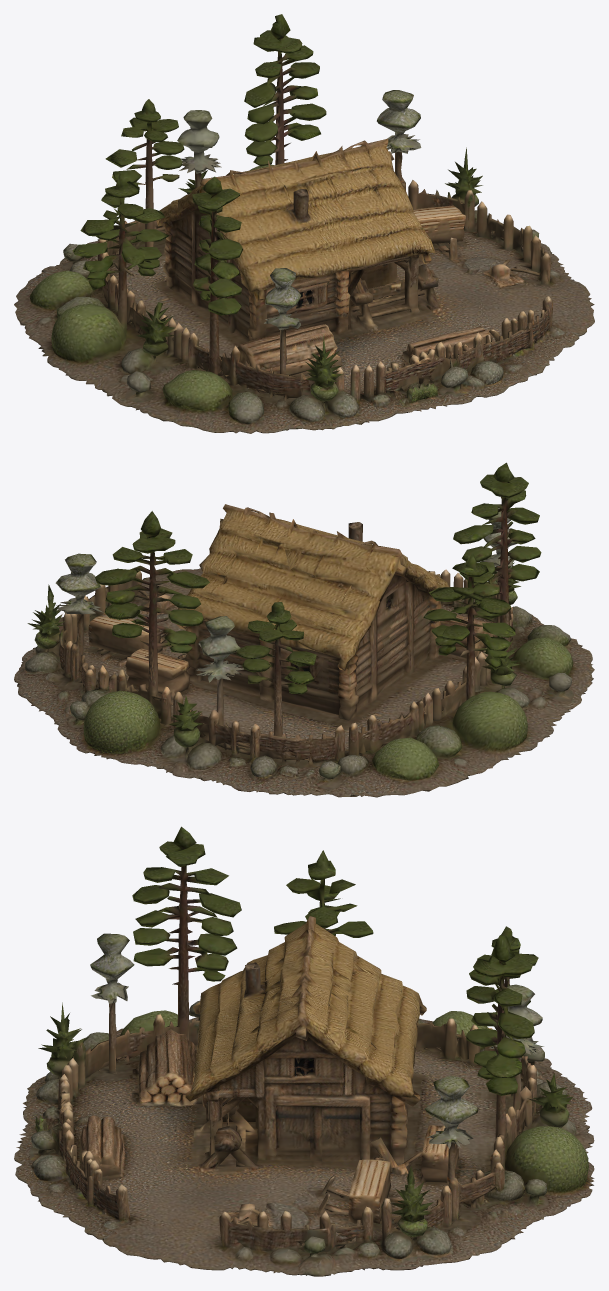
The model's file is sawmill.glb.
3 views of the same model, one above another, from view 1: azimuth 30°, elevation 25°; view 2: azimuth 150°, elevation 25°; view 3: azimuth 270°, elevation 25° (orthographic). The views are drawn at different scales.
Visible parts, largest first — view 1: tripo_node_e5df8669-d6f1-4f5e-9494-879ddd1b7f77; view 2: tripo_node_e5df8669-d6f1-4f5e-9494-879ddd1b7f77; view 3: tripo_node_e5df8669-d6f1-4f5e-9494-879ddd1b7f77.
Part boxes in pixels (<box>): tripo_node_e5df8669-d6f1-4f5e-9494-879ddd1b7f77: <box>14,14,594,433</box>; tripo_node_e5df8669-d6f1-4f5e-9494-879ddd1b7f77: <box>14,462,594,797</box>; tripo_node_e5df8669-d6f1-4f5e-9494-879ddd1b7f77: <box>14,826,594,1276</box>.
Bounding box in the file's own units: 1 × 0.4268 × 0.9241.
Materials: 1 (1 with a texture image).
